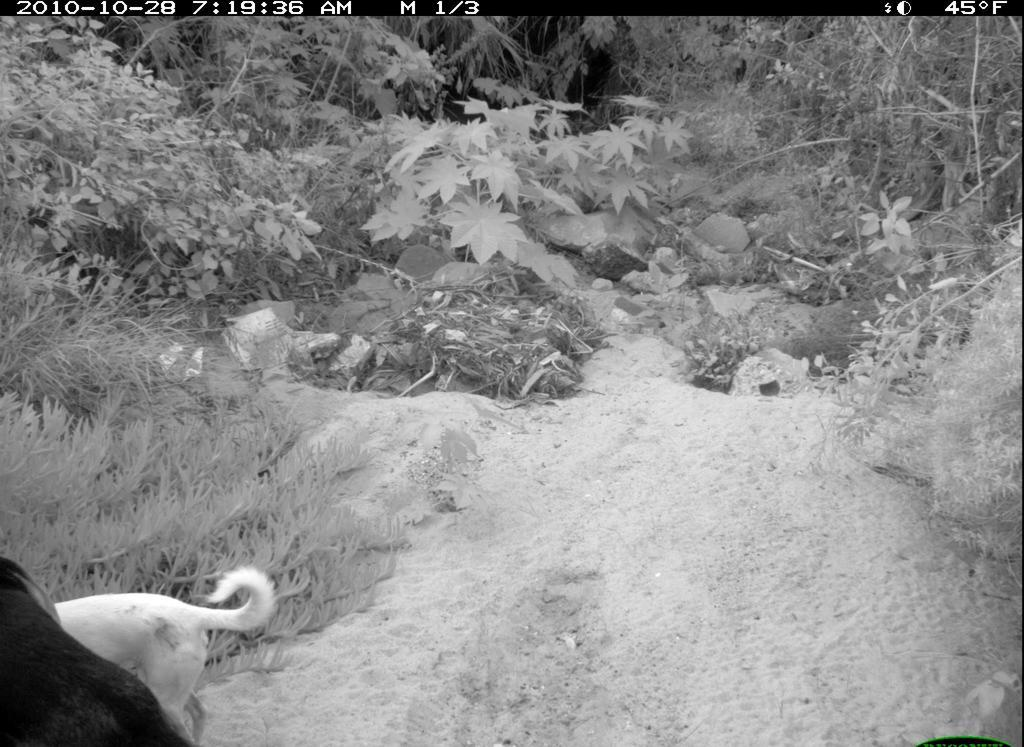dog: (34, 566, 282, 747), (3, 547, 191, 740)
